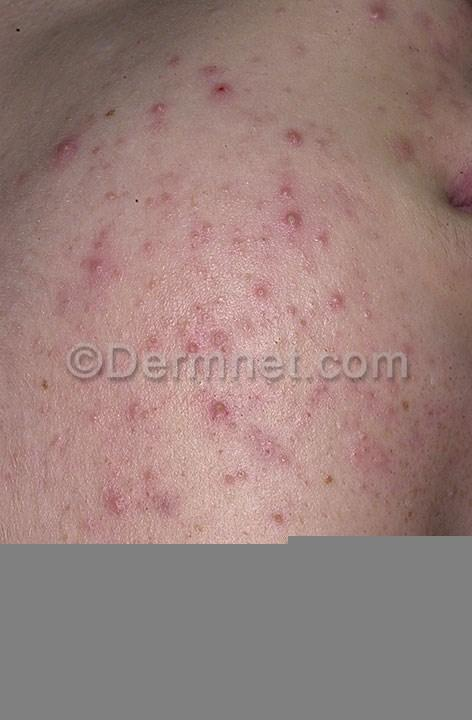Acne: (177, 393, 318, 494), (243, 171, 334, 266), (105, 453, 203, 528), (73, 225, 148, 305), (151, 313, 239, 373), (193, 57, 251, 136), (41, 121, 111, 186), (131, 85, 190, 150)
